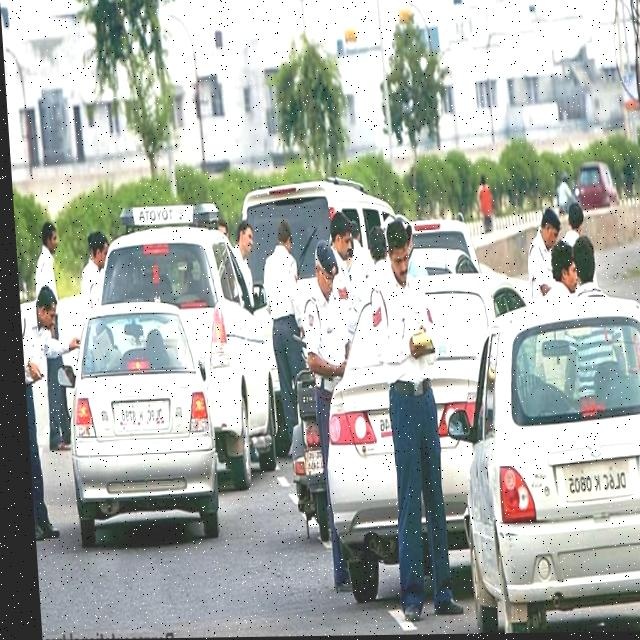plate: (554, 461, 624, 507), (109, 403, 163, 433)
